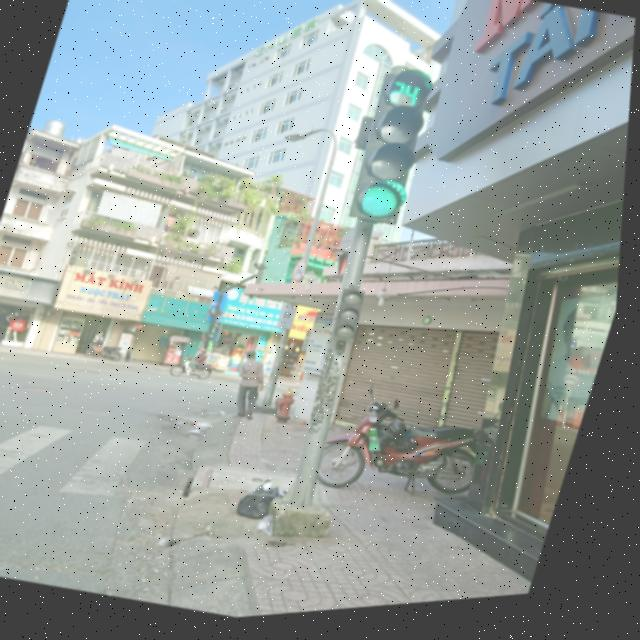Green: (338, 107, 438, 241)
